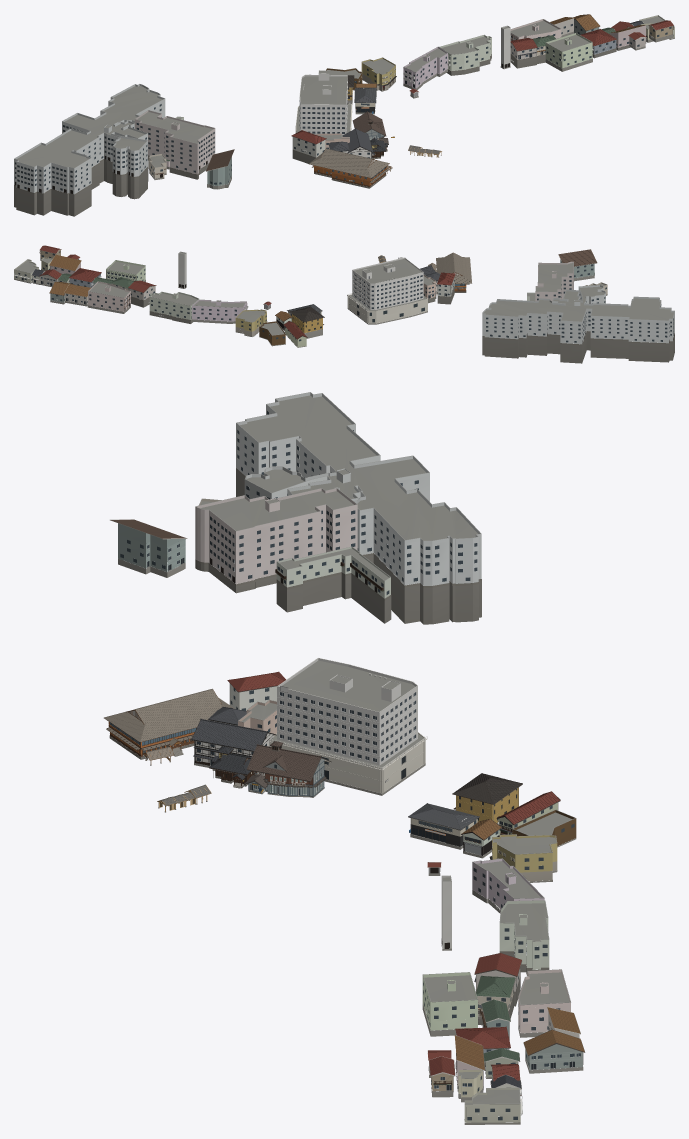
File: buildings_B.glb
3 renders of one model, top to bottom at view 1: azimuth 30°, elevation 25°; view 2: azimuth 150°, elevation 25°; view 3: azimuth 270°, elevation 25°, orthographic. The views are drawn at different scales.
Parts seen in each view (by area): view 1: Bld_B_wall, Bld_B_stone, Bld_B_metal, Bld_B_glass, Bld_B_roof, Bld_B_wood; view 2: Bld_B_wall, Bld_B_stone, Bld_B_metal, Bld_B_glass, Bld_B_wood, Bld_B_roof; view 3: Bld_B_wall, Bld_B_metal, Bld_B_stone, Bld_B_wood, Bld_B_roof, Bld_B_glass.
Boxes of the visible parts, x1,y1,x2,y2 form: Bld_B_wall: [14, 15, 674, 194]; Bld_B_stone: [14, 31, 674, 216]; Bld_B_metal: [14, 14, 674, 181]; Bld_B_glass: [15, 24, 673, 190]; Bld_B_roof: [309, 76, 396, 182]; Bld_B_wood: [157, 14, 673, 186]; Bld_B_wall: [14, 250, 674, 347]; Bld_B_stone: [14, 257, 674, 363]; Bld_B_metal: [14, 245, 674, 345]; Bld_B_glass: [15, 251, 673, 342]; Bld_B_wood: [33, 247, 597, 345]; Bld_B_roof: [420, 252, 471, 288]; Bld_B_wall: [129, 392, 578, 1122]; Bld_B_metal: [110, 392, 585, 1119]; Bld_B_stone: [109, 468, 583, 1124]; Bld_B_wood: [104, 519, 584, 1095]; Bld_B_roof: [104, 688, 512, 1008]; Bld_B_glass: [110, 411, 580, 1120].
Size of the model in its own units: 465 by 57.37 by 160.
